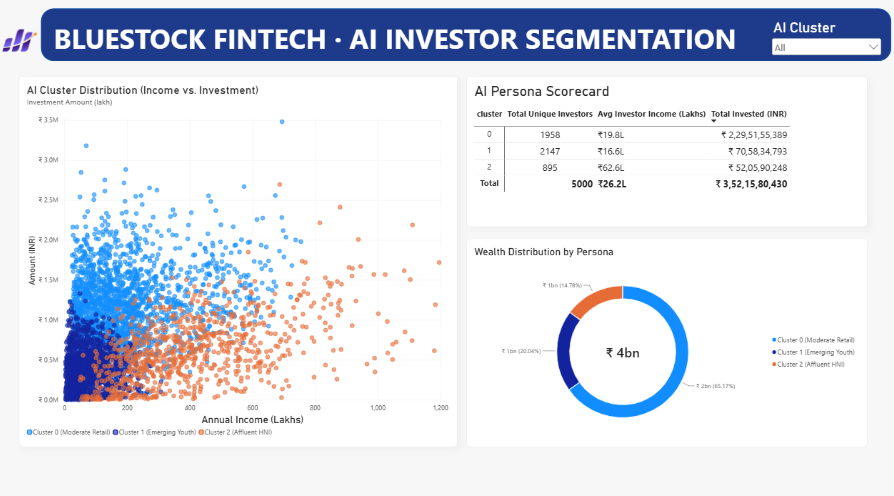

What the dashboard file says about the page in this screenshot:
{"tool":"powerbi","page":{"name":"Page 4","canvas":[1920,1080],"ordinal":3},"visuals":[{"type":"shape","box":[93.6,34.1,1815.4,112.8],"z":0},{"type":"image","box":[0,57.5,93.6,89.4],"z":1},{"type":"textbox","box":[121.3,57.5,1787.8,89.4],"z":2},{"type":"scatterChart","title":"AI Cluster Distribution (Income vs. Investment)","fields":{"Category":["fact_transactions.investor_id"],"Series":["clustered_investors.AI Persona"],"X":["Sum(fact_transactions.Average Investor (lakh))"],"Y":["Sum(fact_transactions.amount_inr)"]},"box":[46.8,178.8,936.4,791.7],"z":3},{"type":"pivotTable","title":"AI Persona Scorecard","fields":{"Rows":["clustered_investors.cluster"],"Values":["fact_transactions.Total Unique Investors","fact_transactions.Avg Income Display","Sum(fact_transactions.amount_inr)"]},"box":[1002.4,178.8,855.6,321.4],"z":4},{"type":"slicer","fields":{"Values":["clustered_investors.AI Persona"]},"box":[1649.4,57.5,242.6,89.4],"z":5},{"type":"donutChart","title":"Wealth Distribution by Persona","fields":{"Category":["clustered_investors.AI Persona"],"Y":["Sum(fact_transactions.Total Invested (INR))"]},"box":[1002.4,525.7,855.6,444.8],"z":6}]}

Visuals, with their boxes in screenshot pixels (x1, y1, x2, y2), scaled from the page's 1920x1080 canvas onto the 894x496 screenshot:
shape: detection(44, 16, 889, 67)
image: detection(0, 26, 44, 67)
textbox: detection(56, 26, 889, 67)
"AI Cluster Distribution (Income vs. Investment)" scatterChart: detection(22, 82, 458, 446)
"AI Persona Scorecard" pivotTable: detection(467, 82, 865, 230)
slicer - clustered_investors.AI Persona: detection(768, 26, 881, 67)
"Wealth Distribution by Persona" donutChart: detection(467, 241, 865, 446)
